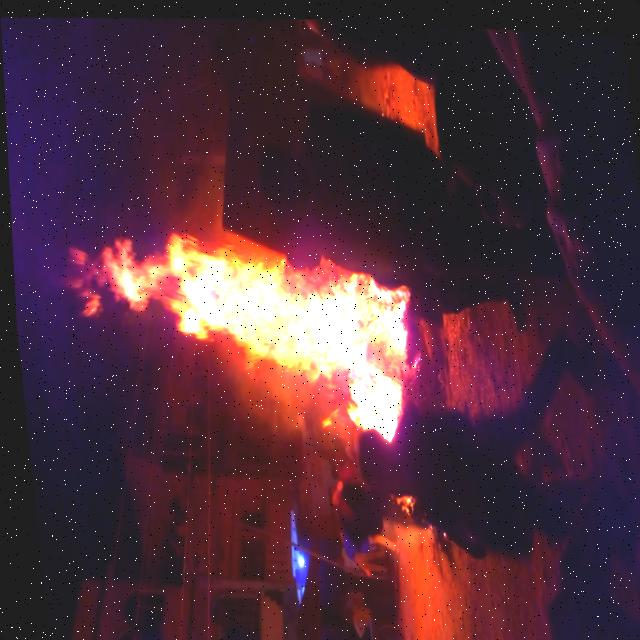Fire: (53, 208, 421, 458)
